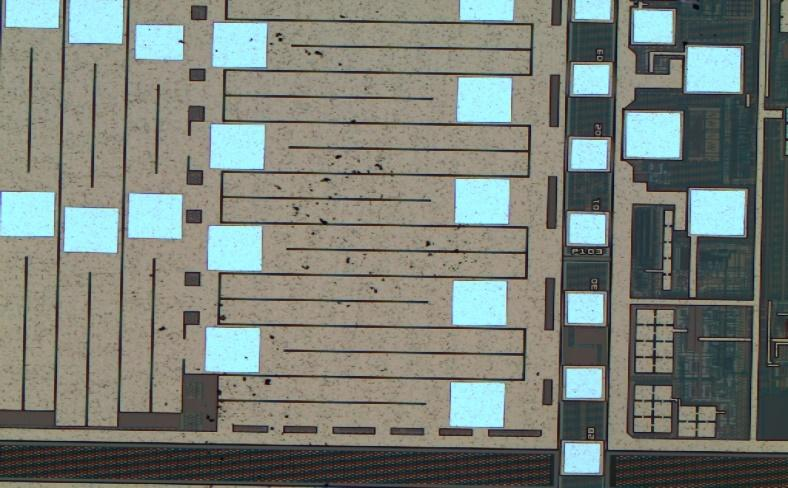PO CONTAMINATION: (141, 12, 476, 488)
